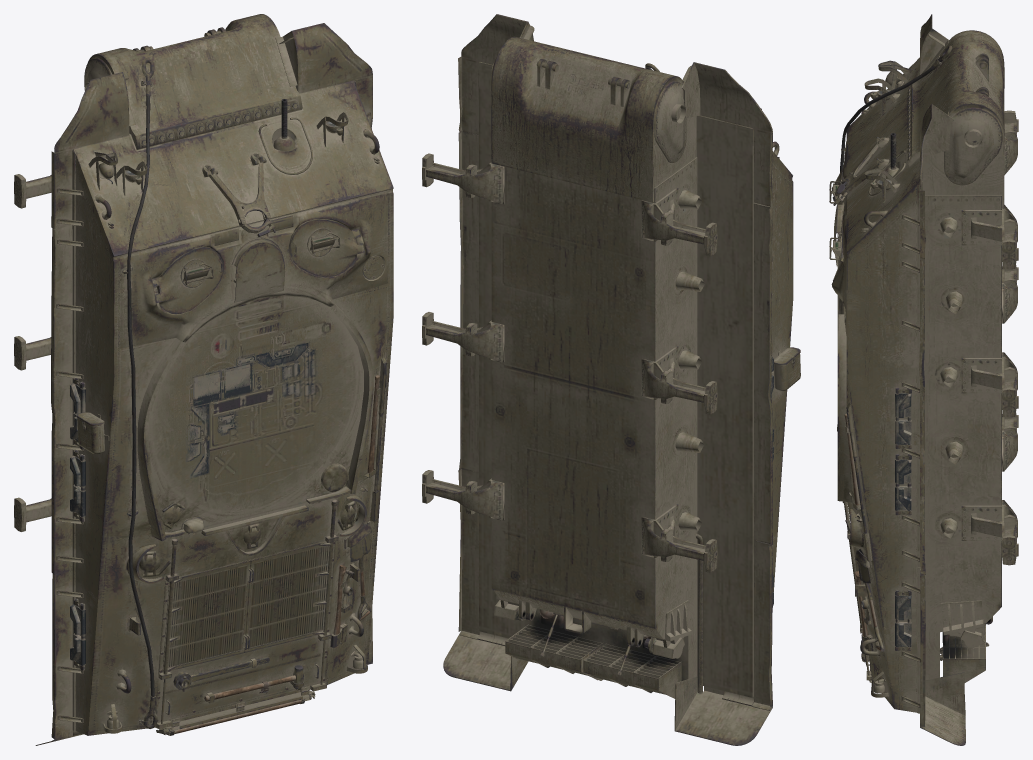
File: Hull.glb
3 renders of one model, left to right at view 1: azimuth 30°, elevation 25°; view 2: azimuth 150°, elevation 25°; view 3: azimuth 270°, elevation 25°, orthographic. The views are drawn at different scales.
Visible parts, largest first — view 1: set_0_group_0; view 2: set_0_group_0; view 3: set_0_group_0.
Boxes of the visible parts, box(x1,y1,x2,y2) form: set_0_group_0: box(14, 14, 393, 745); set_0_group_0: box(422, 14, 800, 745); set_0_group_0: box(829, 14, 1018, 745).
Bounding box in the file's own units: 3.01 × 6.03 × 1.69.
Materials: 1 (1 with a texture image).
